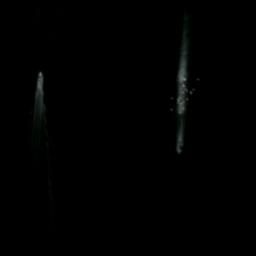boat: (166, 70, 200, 119), (176, 140, 184, 152), (38, 70, 44, 82)
